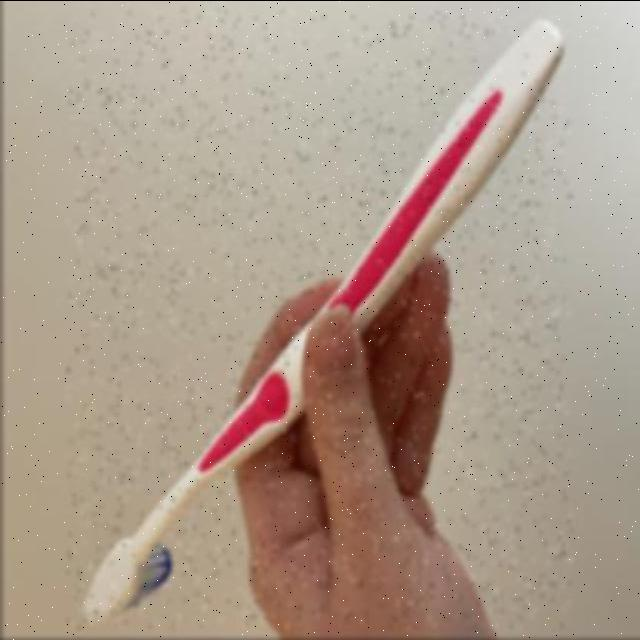toothbrush: (67, 11, 571, 629)
